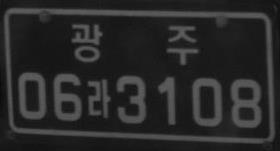0: (191, 77, 223, 127), (17, 71, 46, 119)
1: (154, 76, 183, 125)
3: (115, 73, 146, 124)
6: (53, 72, 83, 122)
8: (230, 78, 263, 128)
광주_D: (71, 23, 198, 65)
라: (87, 78, 110, 118)
